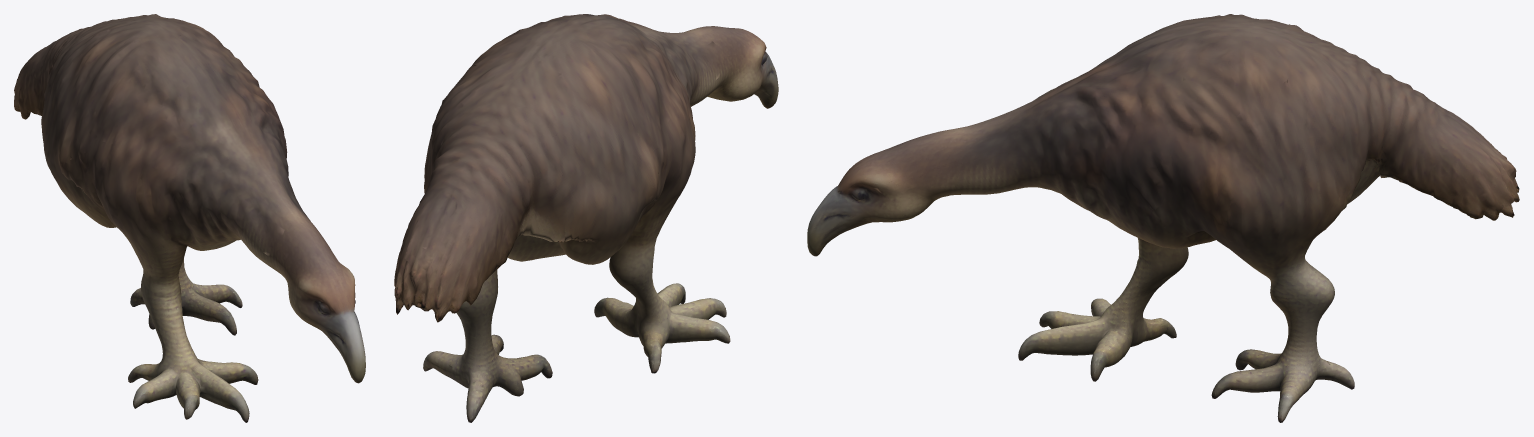
The picture shows the model from 3 angles, left to right: view 1: azimuth 30°, elevation 25°; view 2: azimuth 150°, elevation 25°; view 3: azimuth 270°, elevation 25°; orthographic projection. The views are drawn at different scales.
Visible parts, largest first — view 1: world; view 2: world; view 3: world.
Part boxes in pixels (x1=…): world: x1=14, y1=14, x2=365, y2=422; world: x1=394, y1=14, x2=778, y2=422; world: x1=807, y1=14, x2=1519, y2=422.
Size of the model in its own units: 0.8618 by 1.35 by 2.49.
1 material, 1 textured.
